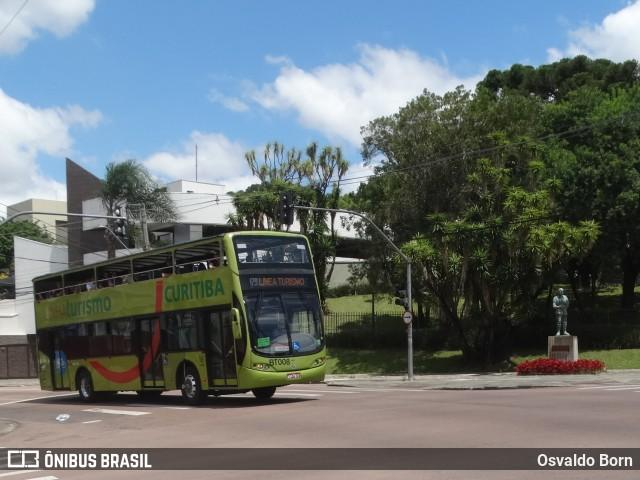TURISMO: (276, 275, 309, 289)
